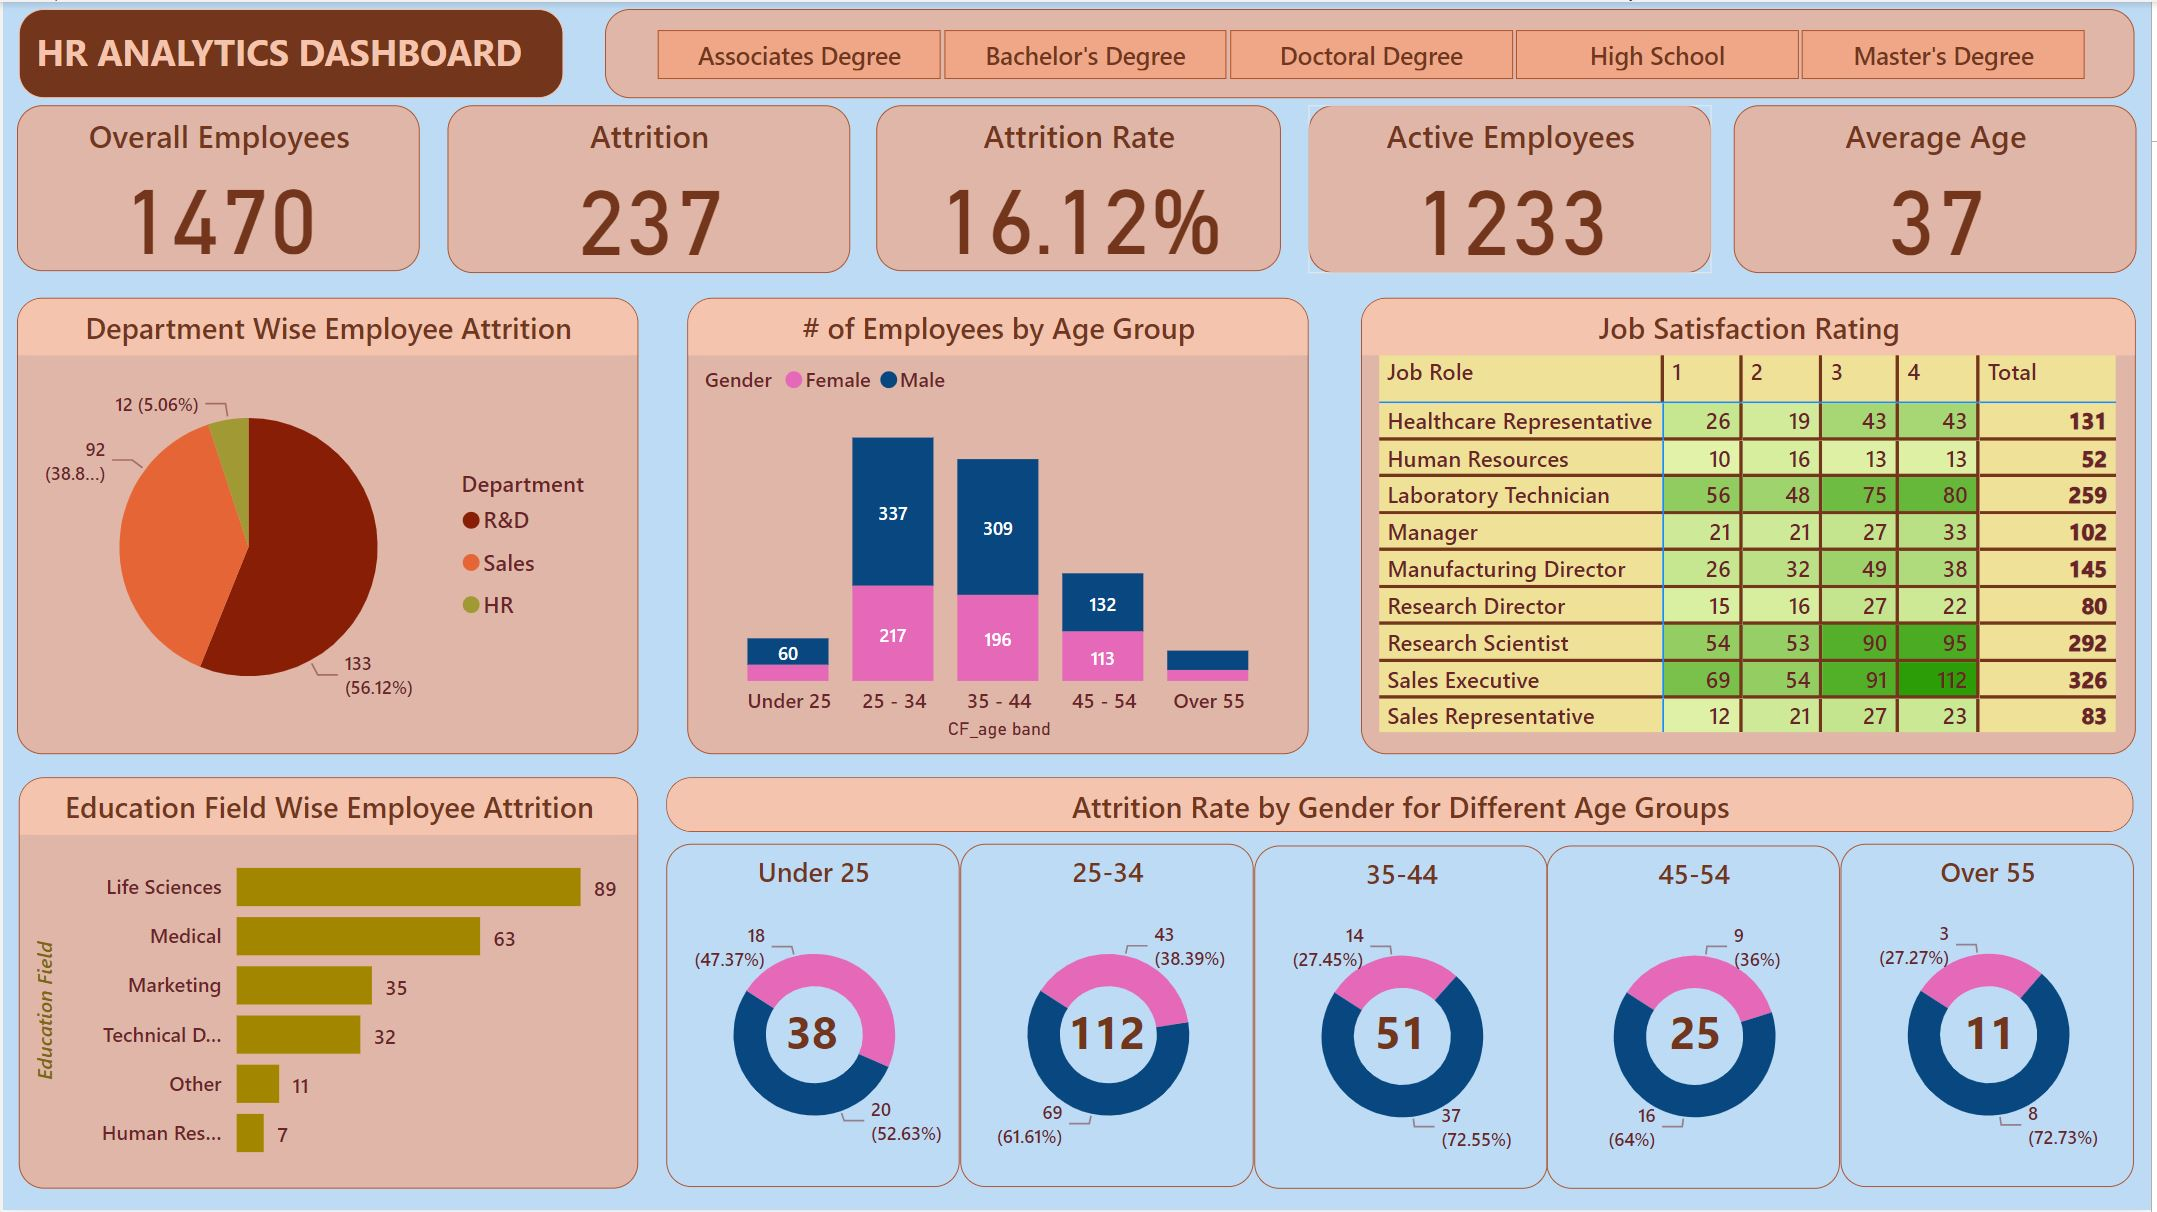

The page's visual inventory and layout, read from the dashboard file:
{"tool":"powerbi","page":{"name":"HR Analytics Dashboard","canvas":[1280,720],"ordinal":0},"visuals":[{"type":"card","title":"Overall Employees","fields":{"Values":["Sum(HR data.Employee Count)"]},"box":[8.3,61.5,239.9,99.1],"z":0},{"type":"card","title":"Attrition ","fields":{"Values":["Sum(HR data.Attrition Count)"]},"box":[264.9,61.5,239.9,100.1],"z":1000},{"type":"card","title":"Attrition Rate","fields":{"Values":["HR data.Attrition Rate"]},"box":[520.4,61.5,240.9,99.1],"z":2000},{"type":"card","title":"Active Employees","fields":{"Values":["HR data.Active employees"]},"box":[778,61.5,239.9,100.1],"z":3000},{"type":"card","title":"Average Age","fields":{"Values":["Avg(HR data.Age)"]},"box":[1031.4,61.5,239.9,100.1],"z":4000},{"type":"pieChart","title":"Department Wise Employee Attrition","fields":{"Category":["HR data.Department"],"Y":["Sum(HR data.Attrition Count)"]},"box":[8.4,175.8,370.2,272.1],"z":5000},{"type":"columnChart","title":"# of Employees by Age Group","fields":{"Category":["HR data.CF_age band"],"Y":["Sum(HR data.Employee Count)"],"Series":["HR data.Gender"]},"box":[407.6,175.8,370.2,272.1],"z":6000},{"type":"pivotTable","title":"Job Satisfaction Rating","fields":{"Rows":["HR data.Job Role"],"Columns":["HR data.Job Satisfaction"],"Values":["Sum(HR data.Employee Count)"]},"box":[809.6,175.8,461.8,272.1],"z":7000},{"type":"barChart","title":"Education Field Wise Employee Attrition","fields":{"Category":["HR data.Education Field"],"Y":["Sum(HR data.Attrition Count)"]},"box":[9.3,461.8,369.3,244.9],"z":8000},{"type":"donutChart","title":"Under 25","fields":{"Category":["HR data.Gender"],"Y":["Sum(HR data.Attrition Count)"],"Series":["HR data.CF_age band"]},"box":[395.5,502,174.8,204.7],"z":9000},{"type":"textbox","title":"Attrition Rate by Gender for Different Age Groups","box":[395.5,461.8,874.1,32.7],"z":10000},{"type":"donutChart","title":"25-34","fields":{"Category":["HR data.Gender"],"Y":["Sum(HR data.Attrition Count)"],"Series":["HR data.CF_age band"]},"box":[570.3,502,174.8,204.7],"z":11000},{"type":"donutChart","title":"35-44","fields":{"Category":["HR data.Gender"],"Y":["Sum(HR data.Attrition Count)"],"Series":["HR data.CF_age band"]},"box":[745.1,503,174.8,204.7],"z":12000},{"type":"donutChart","title":"45-54","fields":{"Category":["HR data.Gender"],"Y":["Sum(HR data.Attrition Count)"],"Series":["HR data.CF_age band"]},"box":[919.9,503,174.8,204.7],"z":13000},{"type":"donutChart","title":"Over 55","fields":{"Category":["HR data.Gender"],"Y":["Sum(HR data.Attrition Count)"],"Series":["HR data.CF_age band"]},"box":[1094.8,502,174.8,204.7],"z":14000},{"type":"card","fields":{"Values":["Sum(HR data.Attrition Count)"]},"box":[459,597.4,45.8,33.7],"z":15000},{"type":"card","fields":{"Values":["Sum(HR data.Attrition Count)"]},"box":[628.8,597.5,57.4,33.4],"z":16000},{"type":"card","fields":{"Values":["Sum(HR data.Attrition Count)"]},"box":[806.1,597.5,53.2,33.4],"z":17000},{"type":"card","fields":{"Values":["Sum(HR data.Attrition Count)"]},"box":[985.4,597.4,45.8,33.7],"z":18000},{"type":"card","fields":{"Values":["Sum(HR data.Attrition Count)"]},"box":[1160.2,597.4,45.8,33.7],"z":19000},{"type":"textbox","box":[9.4,4.2,324.3,53.2],"z":20000},{"type":"slicer","fields":{"Values":["HR data.Education"]},"box":[358.7,4.2,911.4,53],"z":21000}]}

Visuals, with their boxes in screenshot pixels (x1, y1, x2, y2), scaled from the page's 1280x720 canvas onto the 2157x1212 screenshot:
"Overall Employees" card: x1=14, y1=104, x2=418, y2=270
"Attrition " card: x1=446, y1=104, x2=851, y2=272
"Attrition Rate" card: x1=877, y1=104, x2=1283, y2=270
"Active Employees" card: x1=1311, y1=104, x2=1715, y2=272
"Average Age" card: x1=1738, y1=104, x2=2142, y2=272
"Department Wise Employee Attrition" pieChart: x1=14, y1=296, x2=638, y2=754
"# of Employees by Age Group" columnChart: x1=687, y1=296, x2=1311, y2=754
"Job Satisfaction Rating" pivotTable: x1=1364, y1=296, x2=2143, y2=754
"Education Field Wise Employee Attrition" barChart: x1=16, y1=777, x2=638, y2=1190
"Under 25" donutChart: x1=666, y1=845, x2=961, y2=1190
"Attrition Rate by Gender for Different Age Groups" textbox: x1=666, y1=777, x2=2139, y2=832
"25-34" donutChart: x1=961, y1=845, x2=1256, y2=1190
"35-44" donutChart: x1=1256, y1=847, x2=1550, y2=1191
"45-54" donutChart: x1=1550, y1=847, x2=1845, y2=1191
"Over 55" donutChart: x1=1845, y1=845, x2=2139, y2=1190
card - Sum(HR data.Attrition Count): x1=773, y1=1006, x2=851, y2=1062
card - Sum(HR data.Attrition Count): x1=1060, y1=1006, x2=1156, y2=1062
card - Sum(HR data.Attrition Count): x1=1358, y1=1006, x2=1448, y2=1062
card - Sum(HR data.Attrition Count): x1=1661, y1=1006, x2=1738, y2=1062
card - Sum(HR data.Attrition Count): x1=1955, y1=1006, x2=2032, y2=1062
textbox: x1=16, y1=7, x2=562, y2=97
slicer - HR data.Education: x1=604, y1=7, x2=2140, y2=96
